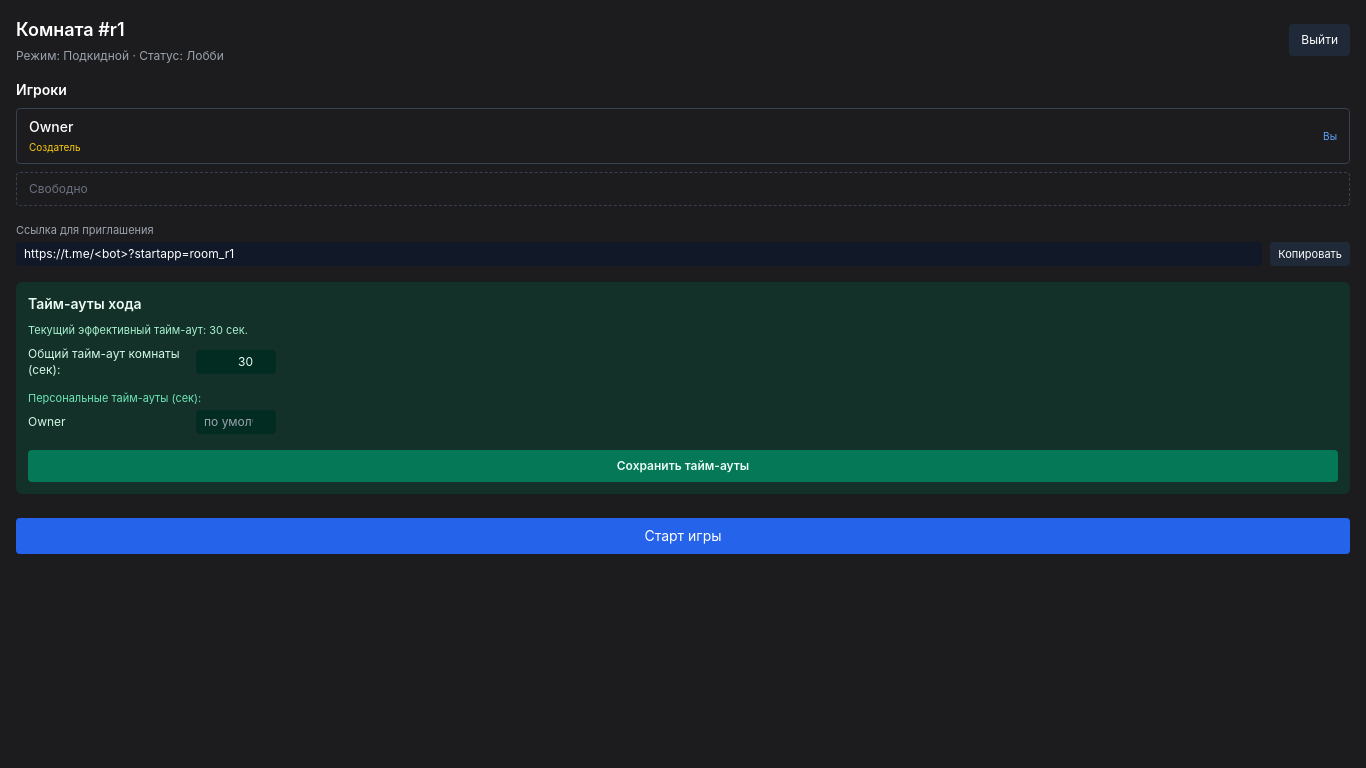
RoomPage timeout settings › renders timeout controls for owner and allows saving overrides
Expected: the heading "Комната #r1" is shown, [16,19,125,40]
Expected: the heading "Тайм-ауты хода" is shown, [28,295,142,312]
Replace the text in the number field named "room-timeout-seconds" with "15" at {"x": 236, "y": 362}, box [196,350,276,374]
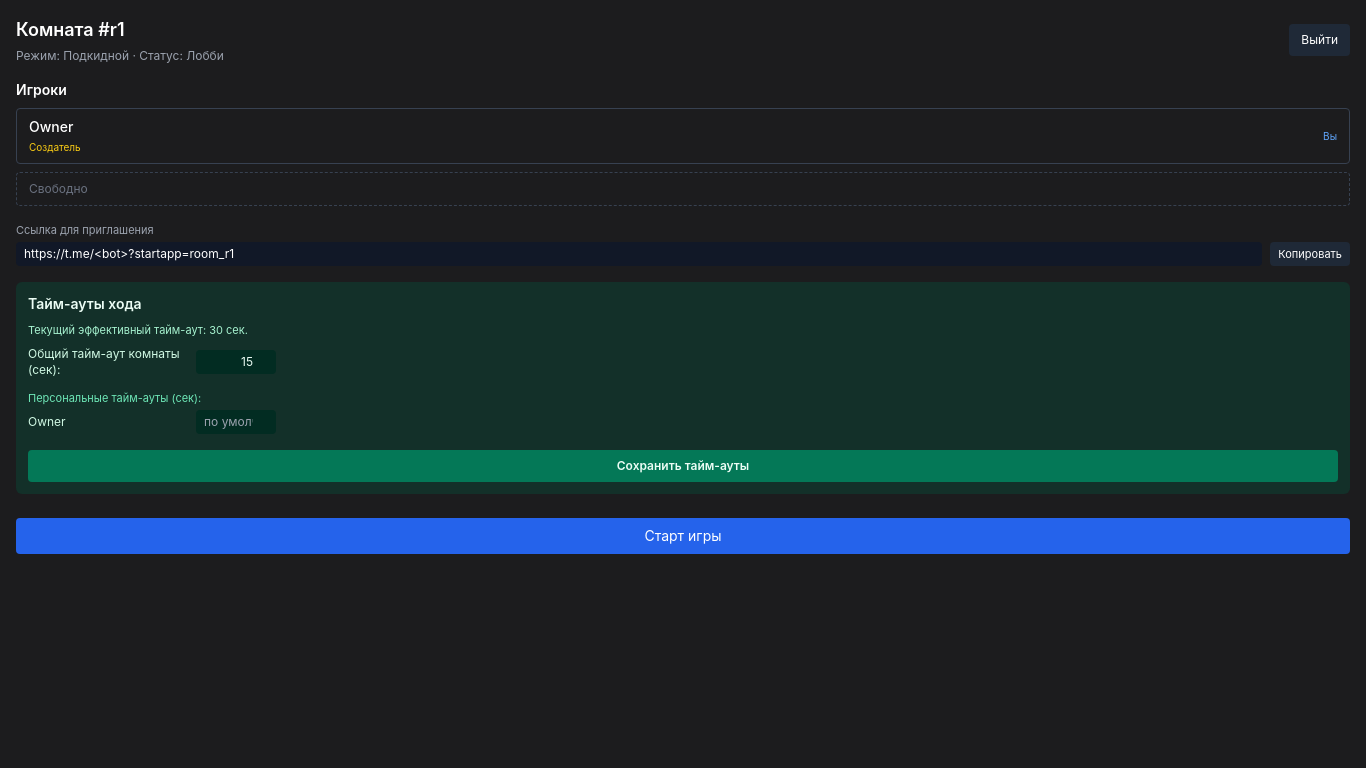
Type "5" into the number field named "timeout-u1" at {"x": 236, "y": 422}, box [196,410,276,434]
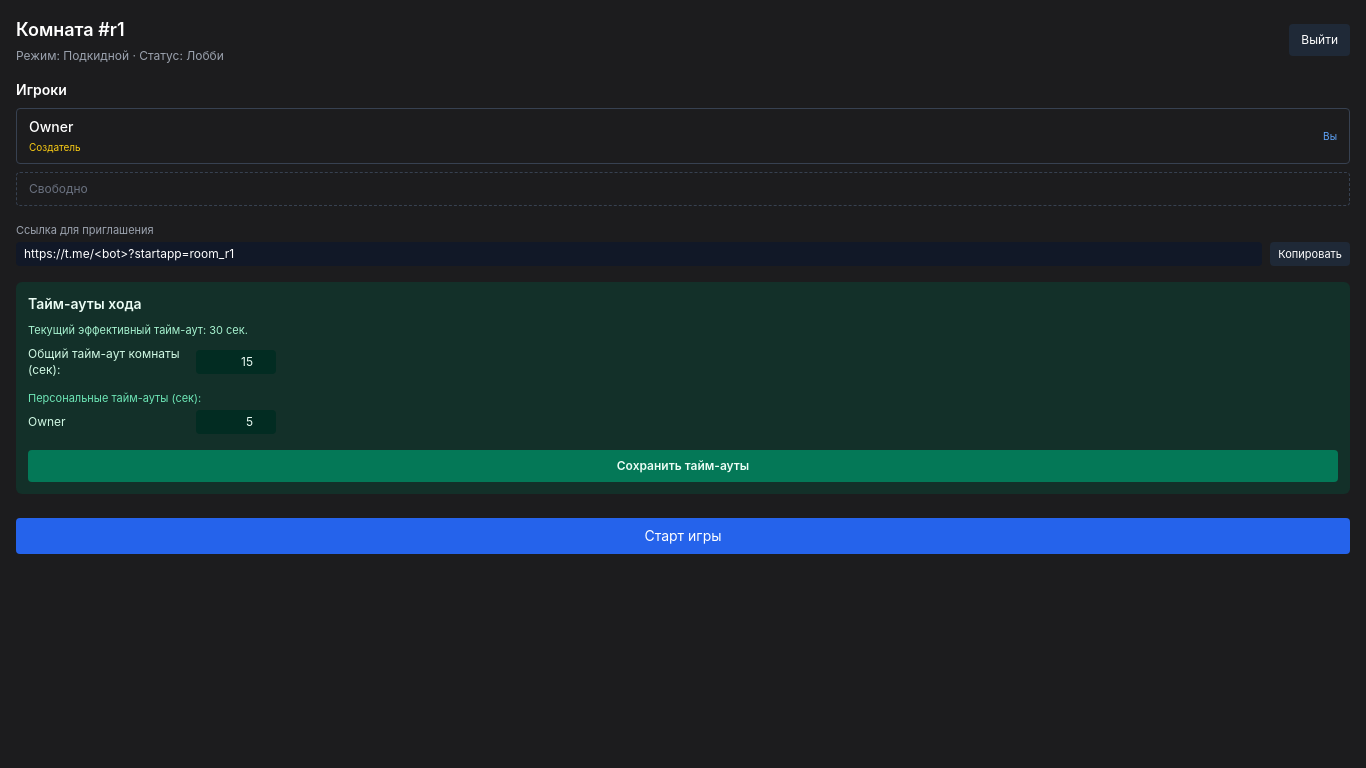
Click the button "Сохранить тайм-ауты" at {"x": 683, "y": 466}, box [28,450,1338,482]
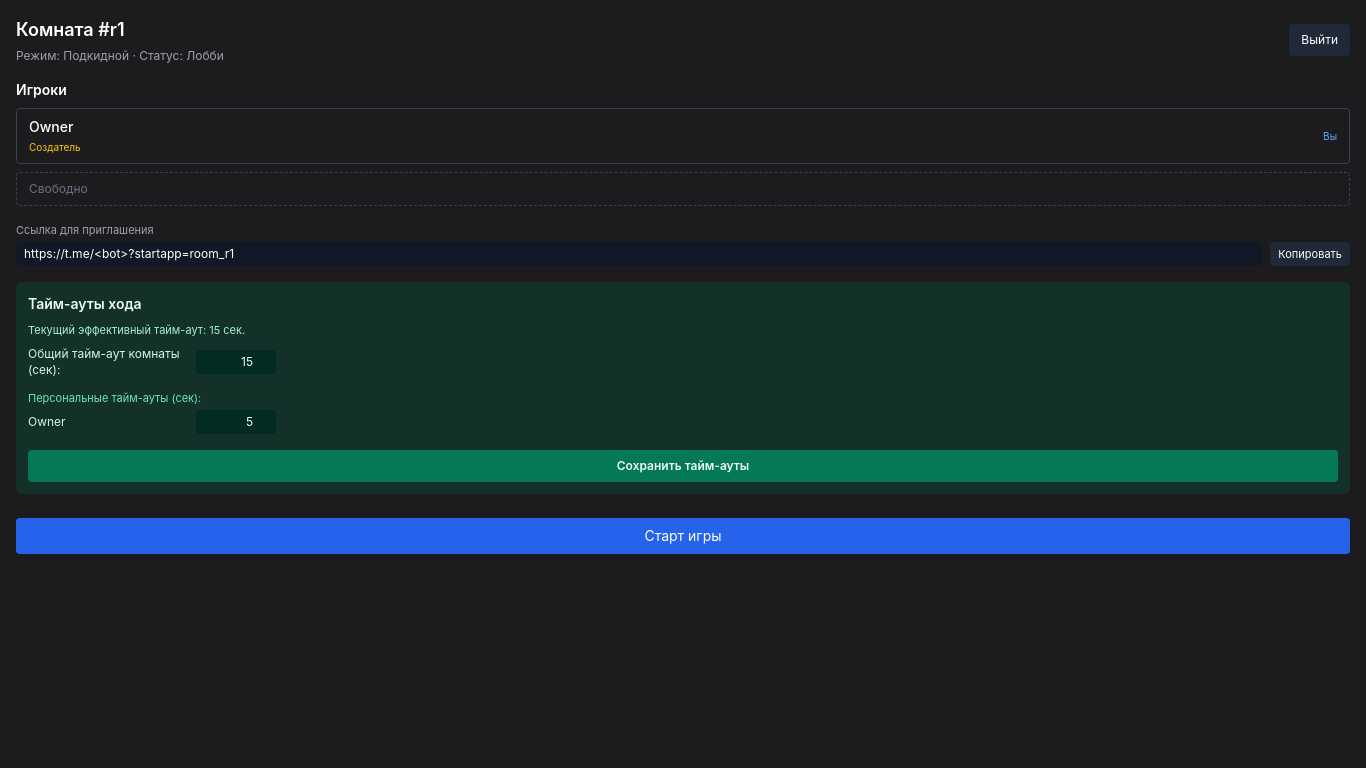
Now the text "Текущий эффективный тайм-аут: 15 сек." is shown, box [28,323,245,337]
